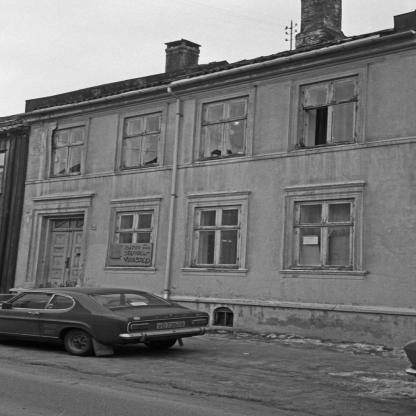Car: (1, 284, 211, 358), (406, 343, 416, 374)
